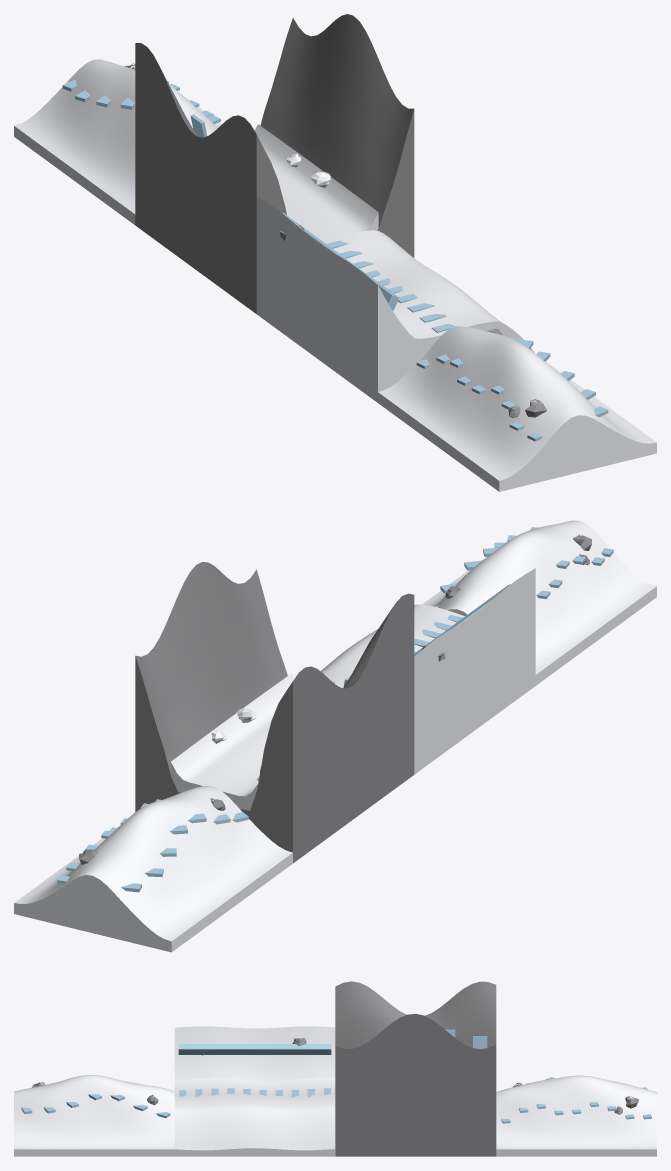
File: backcountry-snowboarding-and-avalanche-safety-slope-co-247e3ec1__18963.glb
The picture shows the model from 3 angles, top to bottom: view 1: azimuth 30°, elevation 25°; view 2: azimuth 150°, elevation 25°; view 3: azimuth 270°, elevation 25°; orthographic projection. The views are drawn at different scales.
Parts seen in each view (by area): view 1: 001-couloir-wall-segment/0, 003-ridge-module/0, 002-cat-track-bench/0, 000-ridge-module/0, 001-couloir-wall-segment/1, 002-cat-track-bench/1, 003-ridge-module/1, 000-ridge-module/1; view 2: 001-couloir-wall-segment/0, 000-ridge-module/0, 002-cat-track-bench/0, 003-ridge-module/0, 001-couloir-wall-segment/1, 000-ridge-module/1, 003-ridge-module/1, 002-cat-track-bench/1; view 3: 001-couloir-wall-segment/0, 002-cat-track-bench/0, 000-ridge-module/0, 003-ridge-module/0, 002-cat-track-bench/1, 003-ridge-module/1, 000-ridge-module/1.
Part boxes in pixels (x1,y1,x2,y2): 001-couloir-wall-segment/0: [135, 14, 414, 313]; 003-ridge-module/0: [378, 326, 656, 491]; 002-cat-track-bench/0: [256, 196, 534, 402]; 000-ridge-module/0: [14, 59, 221, 224]; 001-couloir-wall-segment/1: [254, 124, 378, 242]; 002-cat-track-bench/1: [281, 212, 455, 332]; 003-ridge-module/1: [416, 338, 608, 441]; 000-ridge-module/1: [62, 79, 220, 123]; 001-couloir-wall-segment/0: [135, 562, 414, 863]; 000-ridge-module/0: [14, 786, 292, 952]; 002-cat-track-bench/0: [320, 568, 535, 774]; 003-ridge-module/0: [422, 520, 656, 685]; 001-couloir-wall-segment/1: [171, 673, 294, 810]; 000-ridge-module/1: [57, 799, 248, 892]; 003-ridge-module/1: [434, 527, 613, 607]; 002-cat-track-bench/1: [414, 584, 510, 656]; 001-couloir-wall-segment/0: [335, 981, 496, 1156]; 002-cat-track-bench/0: [174, 1026, 335, 1156]; 000-ridge-module/0: [496, 1075, 656, 1156]; 003-ridge-module/0: [14, 1075, 174, 1156]; 002-cat-track-bench/1: [178, 1044, 331, 1096]; 003-ridge-module/1: [21, 1082, 170, 1118]; 000-ridge-module/1: [501, 1077, 651, 1123].
Size of the model in its own units: 3.03 by 3.92 by 16.
